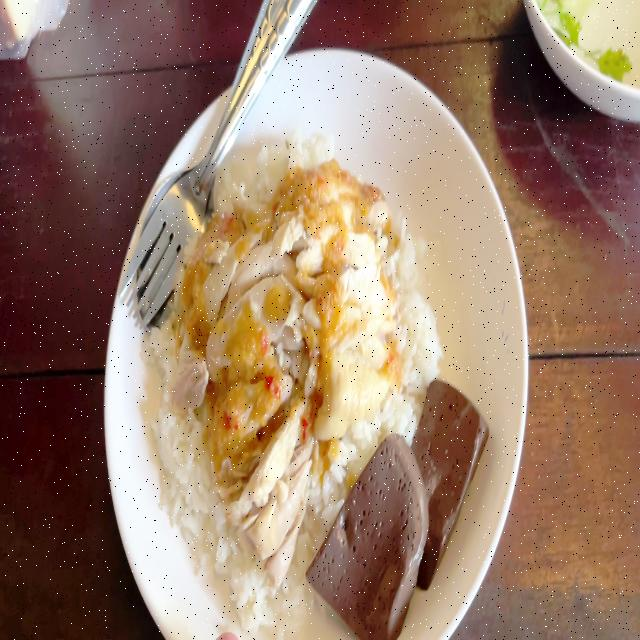boiled_chicken: (201, 180, 383, 469)
boiled_chicken_blood_jelly: (310, 431, 424, 635), (404, 381, 480, 590)
chicken_rice: (153, 133, 488, 631)
